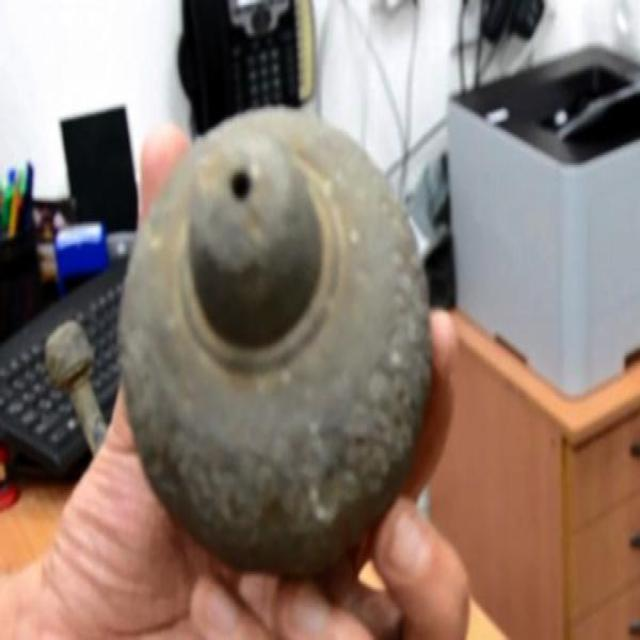grenade: (117, 104, 431, 577)
